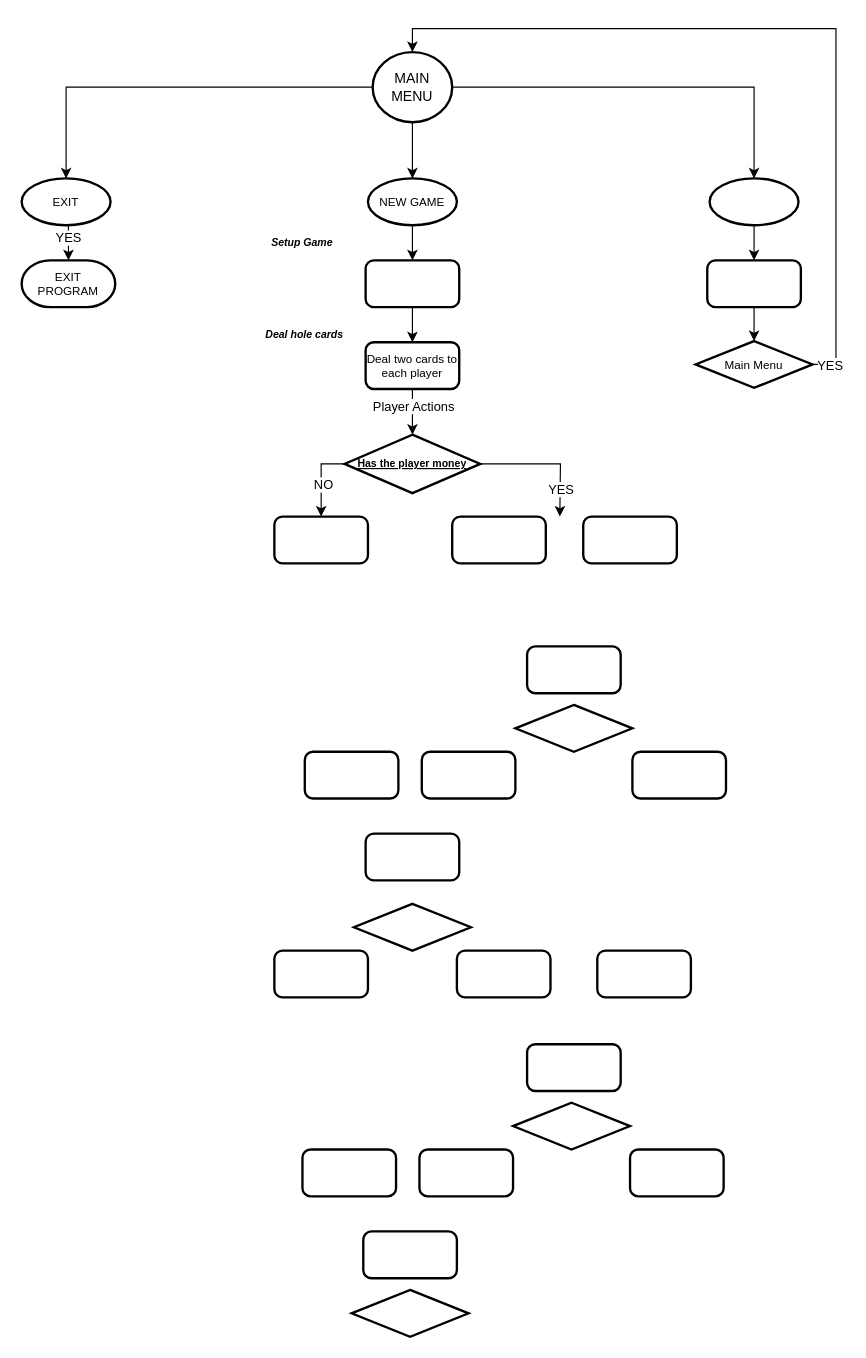
Some shapes in this 866 by 1358 pixel diagram are drawn without their labels. Here are the shapes that lost their labels. From the top down, the centre of each, then its label:
(753,201): VIEW RULES
(412,283): Initialize chips, shuffle cards, assign blinds
(753,283): Show Rules
